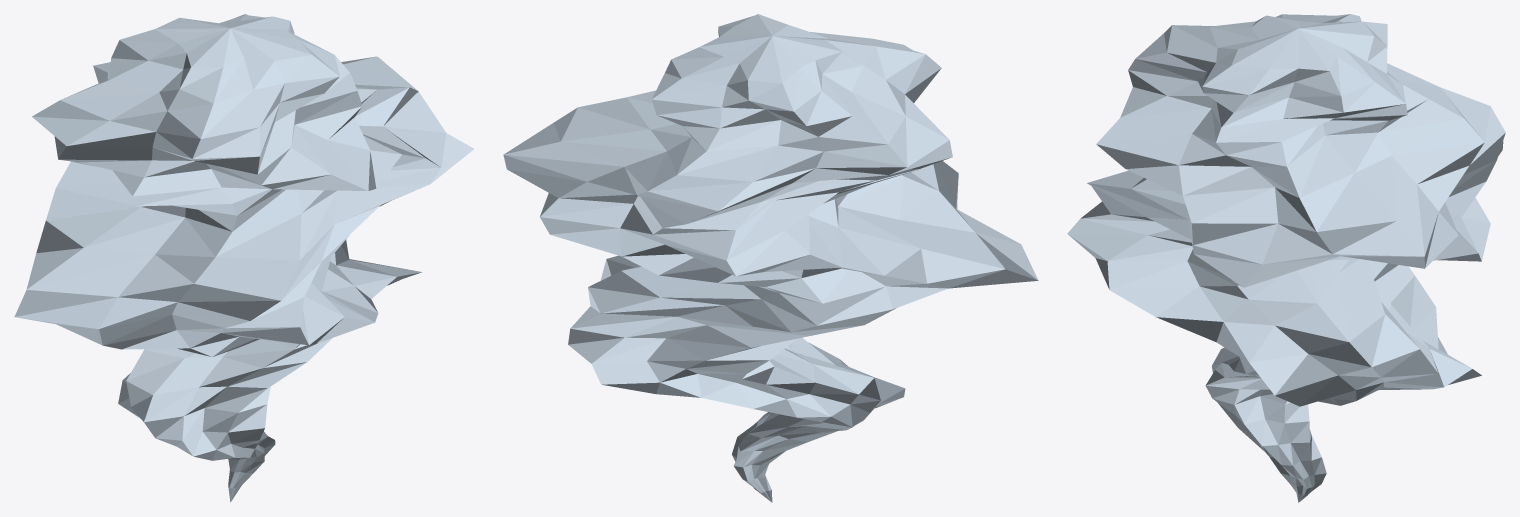
The model's file is Xiangling_GuobaState_Overall_GuobaJet_233_2_Core.fbx.
The picture shows the model from 3 angles, left to right: view 1: azimuth 30°, elevation 25°; view 2: azimuth 150°, elevation 25°; view 3: azimuth 270°, elevation 25°; orthographic projection.
Visible parts, largest first — view 1: PART_GuobaJet_233_2_Core; view 2: PART_GuobaJet_233_2_Core; view 3: PART_GuobaJet_233_2_Core.
Boxes of the visible parts, x1,y1,x2,y2 form: PART_GuobaJet_233_2_Core: (14, 14, 473, 502); PART_GuobaJet_233_2_Core: (503, 14, 1038, 502); PART_GuobaJet_233_2_Core: (1067, 14, 1505, 502).
Bounding box in the file's own units: 102 × 100 × 83.77.
